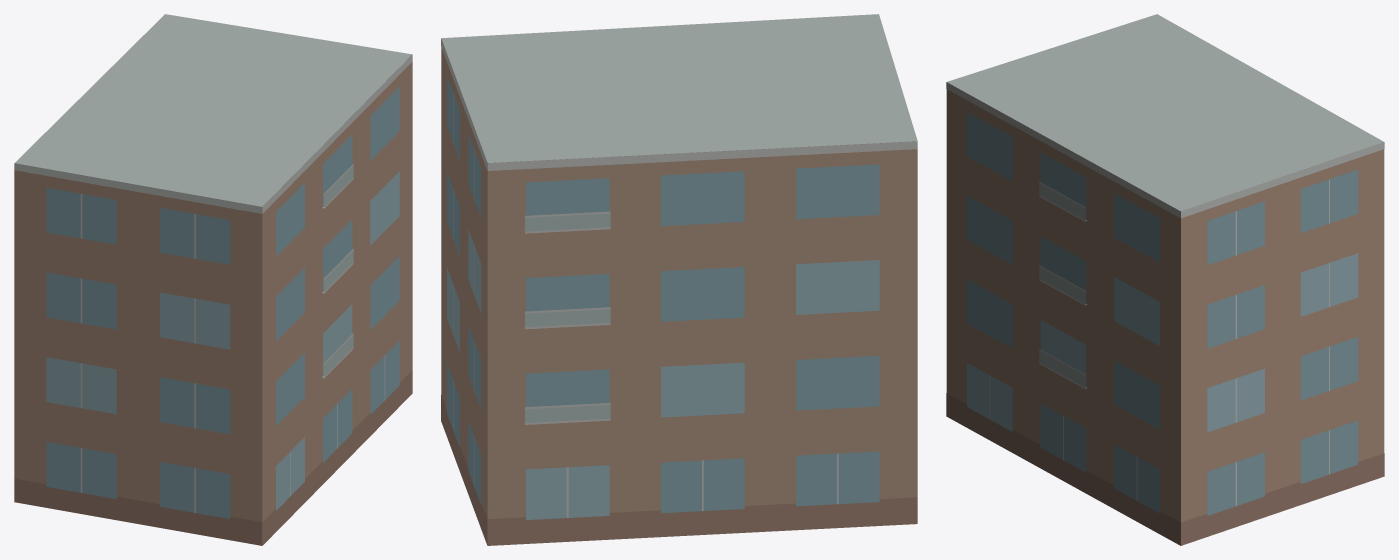
The model's file is survey-upis-32548984.glb.
3 views of the same model, side by side, from view 1: azimuth 30°, elevation 25°; view 2: azimuth 150°, elevation 25°; view 3: azimuth 270°, elevation 25° (orthographic). The views are drawn at different scales.
Parts seen in each view (by area): view 1: survey-upis-32548984.tmp; view 2: survey-upis-32548984.tmp; view 3: survey-upis-32548984.tmp.
Part boxes in pixels (<box>): survey-upis-32548984.tmp: <box>14,14,412,545</box>; survey-upis-32548984.tmp: <box>441,14,917,545</box>; survey-upis-32548984.tmp: <box>946,14,1384,545</box>.
Size of the model in its own units: 14.82 by 11.7 by 13.89.
